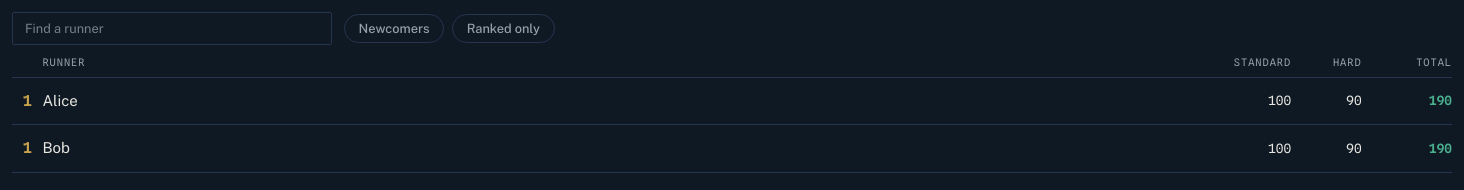
Scenario: EventLadder filters › filters by username or display name, case-insensitively
Type "BOB" into the search field with placeholder "Find a runner" at (172, 28), box top-left (12, 12), bottom-right (332, 45)
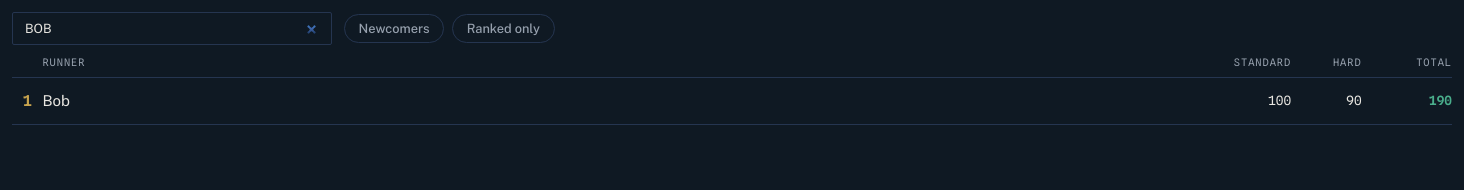
Expected: the text "Bob" is shown, top-left (42, 90), bottom-right (70, 112)
Now the link "Alice" is gone
